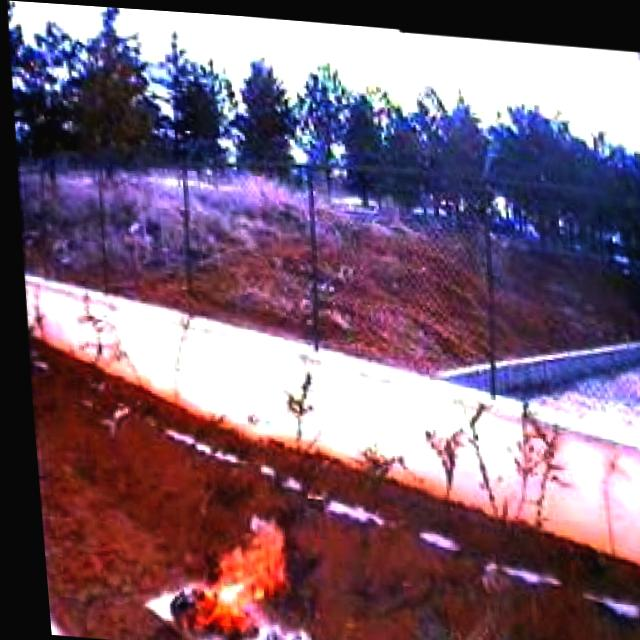Fire: (152, 498, 284, 640)
